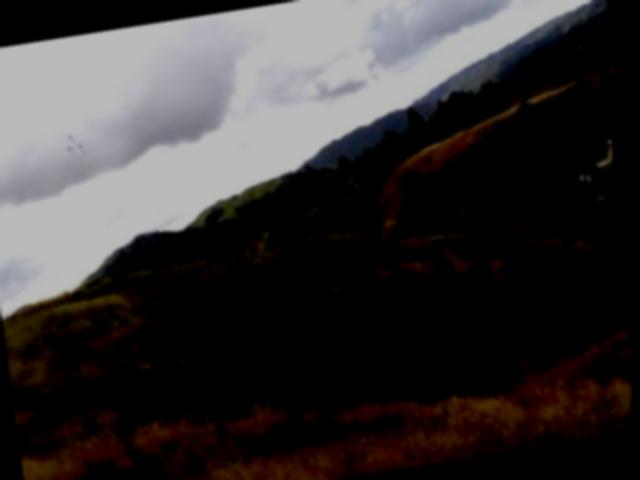iha: (61, 136, 91, 161)
